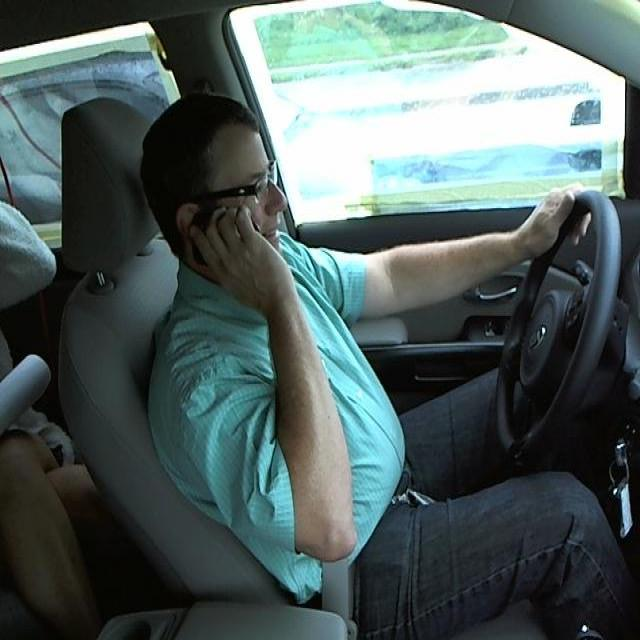using_phone: (118, 72, 334, 327)
